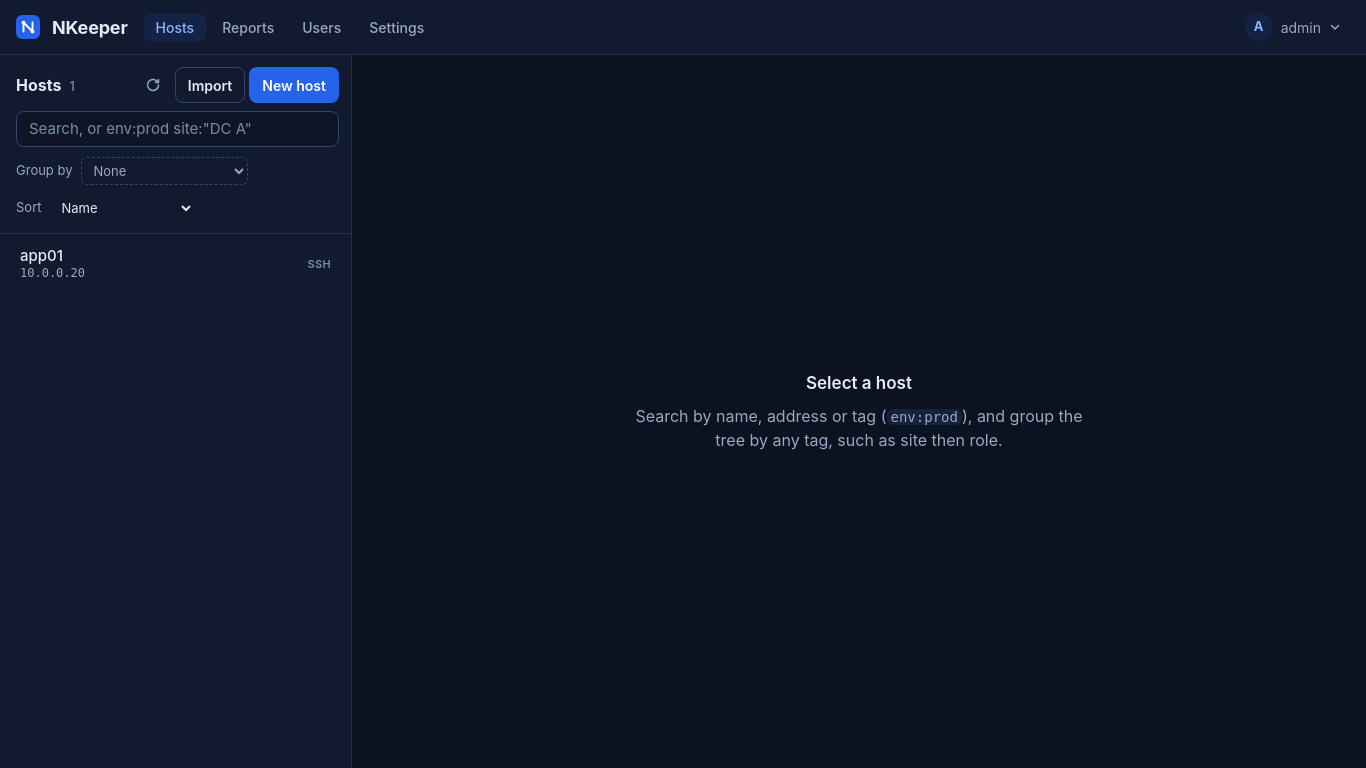
Test case: files (SFTP) › deletes only after confirming
Right-click the button "app01 10.0.0.20 SSH": x=41, y=256 [8,242,343,286]
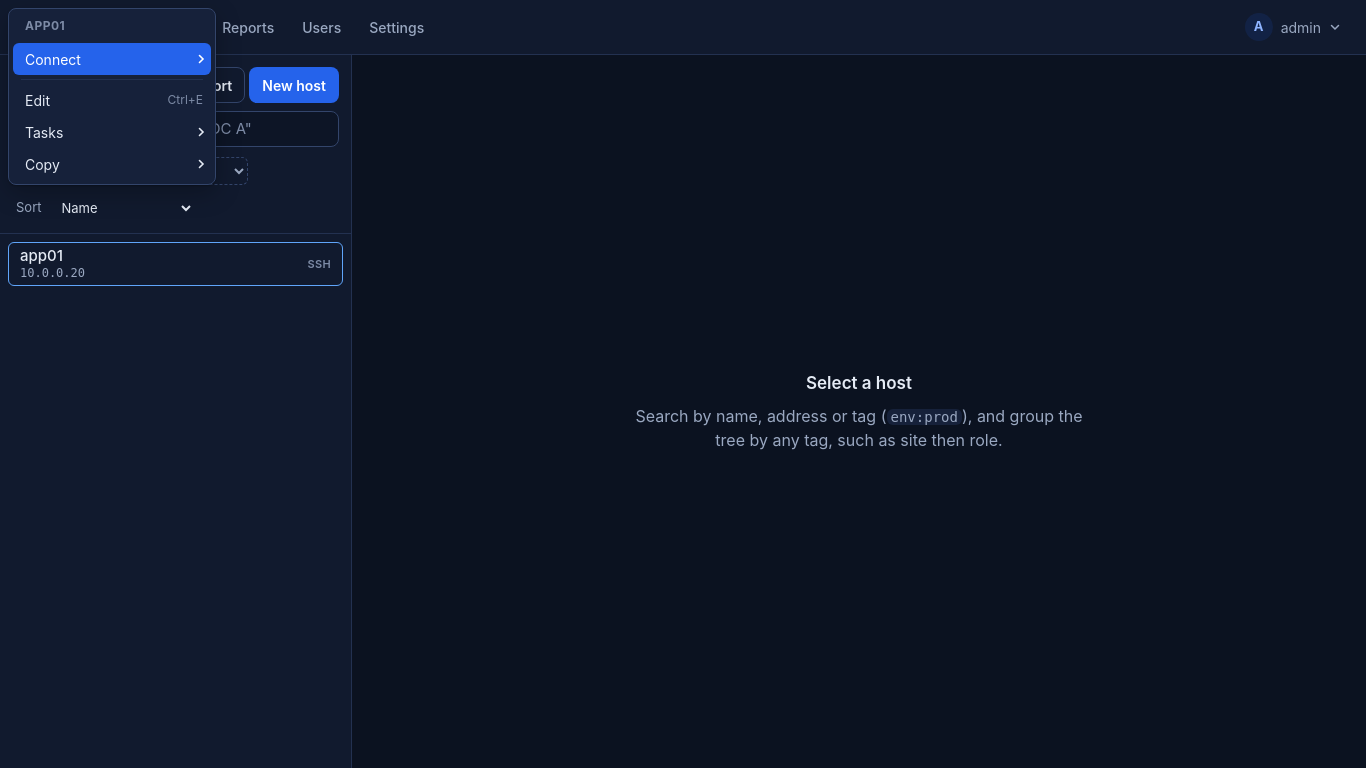
Hover over the menu item "Connect": x=112, y=59 [13,43,211,75]
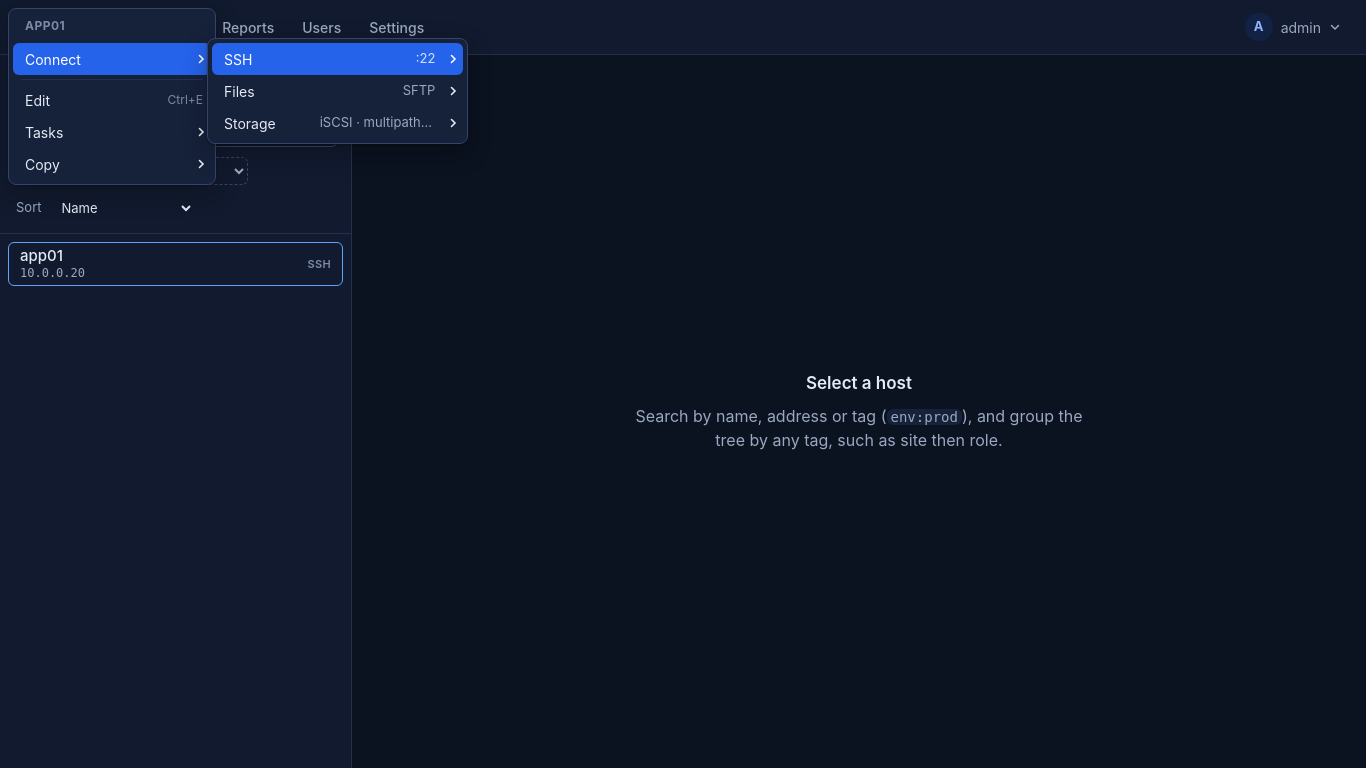
Hover over the menu item "Files SFTP": x=338, y=91 [212,75,463,107]
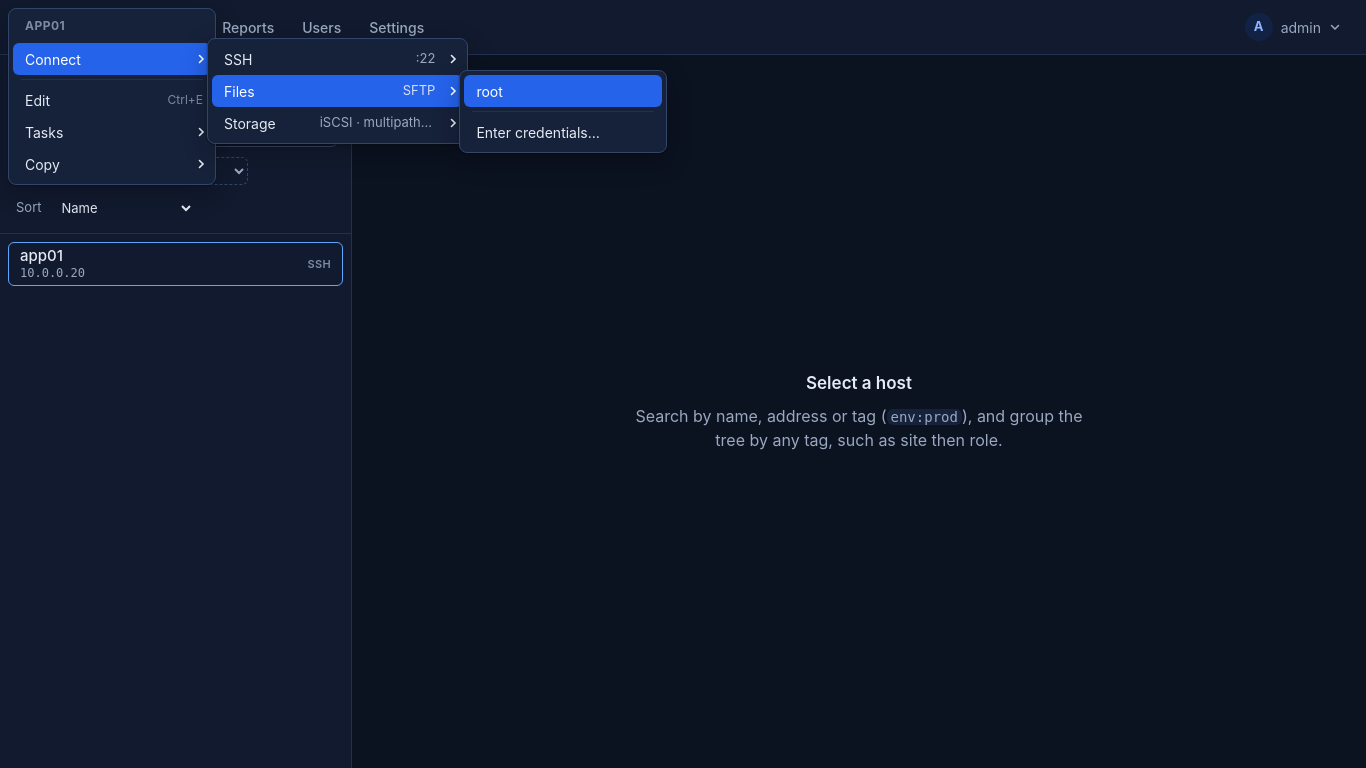
Click the menu item "root": x=563, y=91 [464,75,662,107]
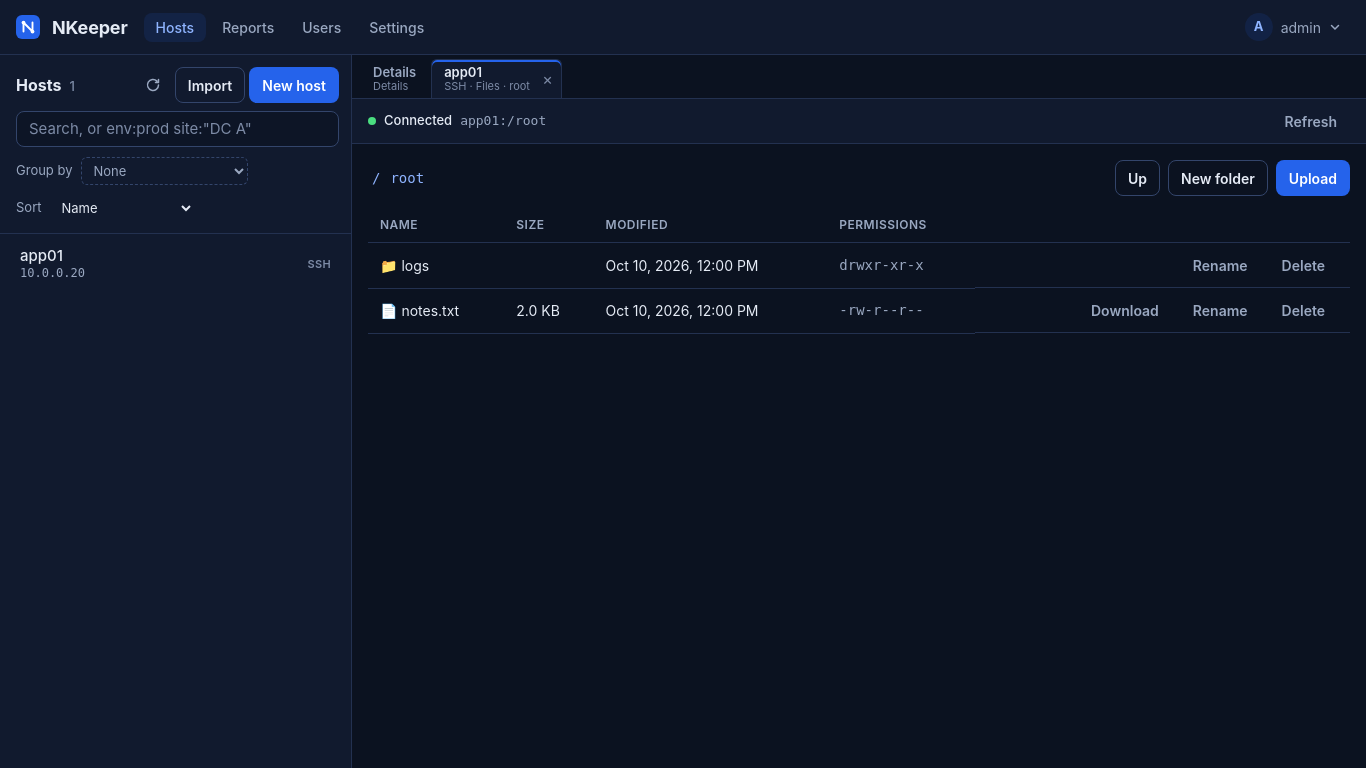
Click the button "Delete" in the row of "notes.txt": x=1303, y=310 [1269,292,1338,328]
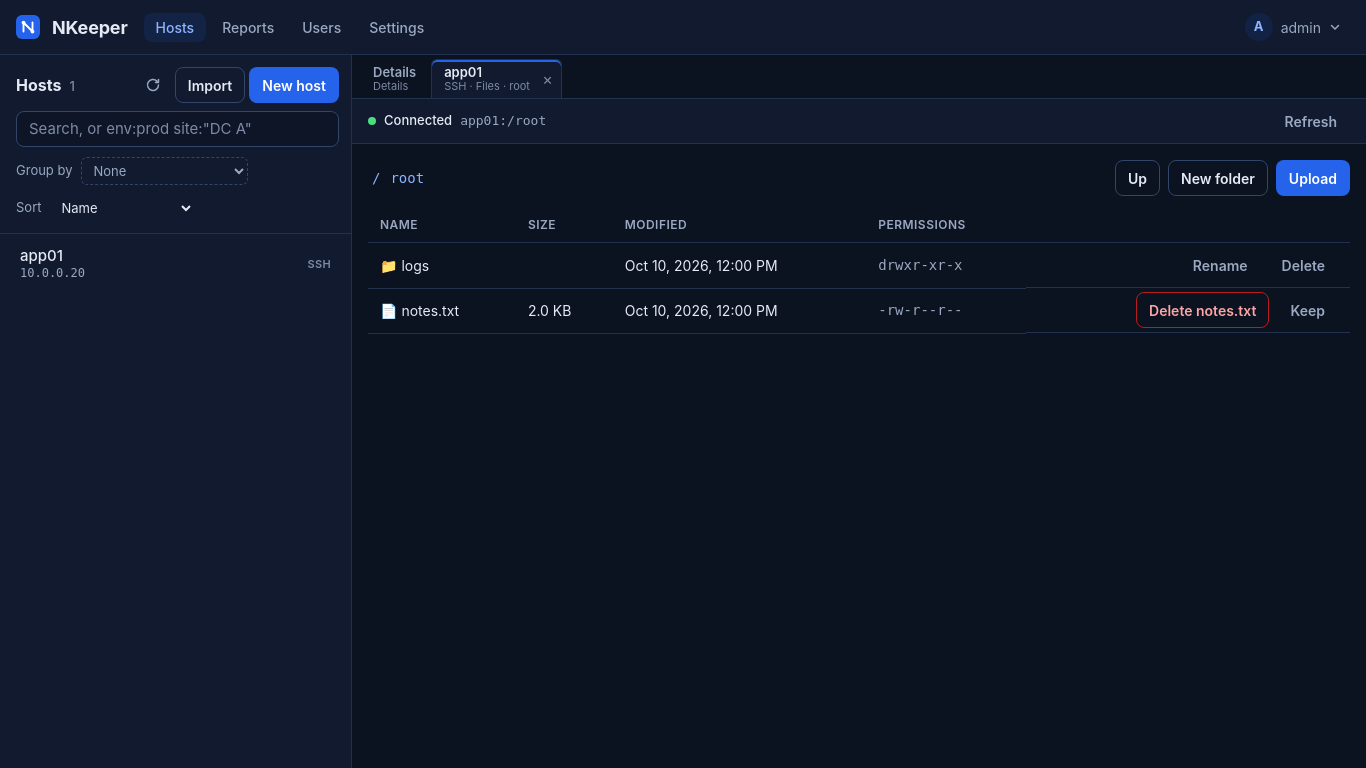
Click the button "Delete notes.txt": x=1203, y=310 [1136,292,1269,328]
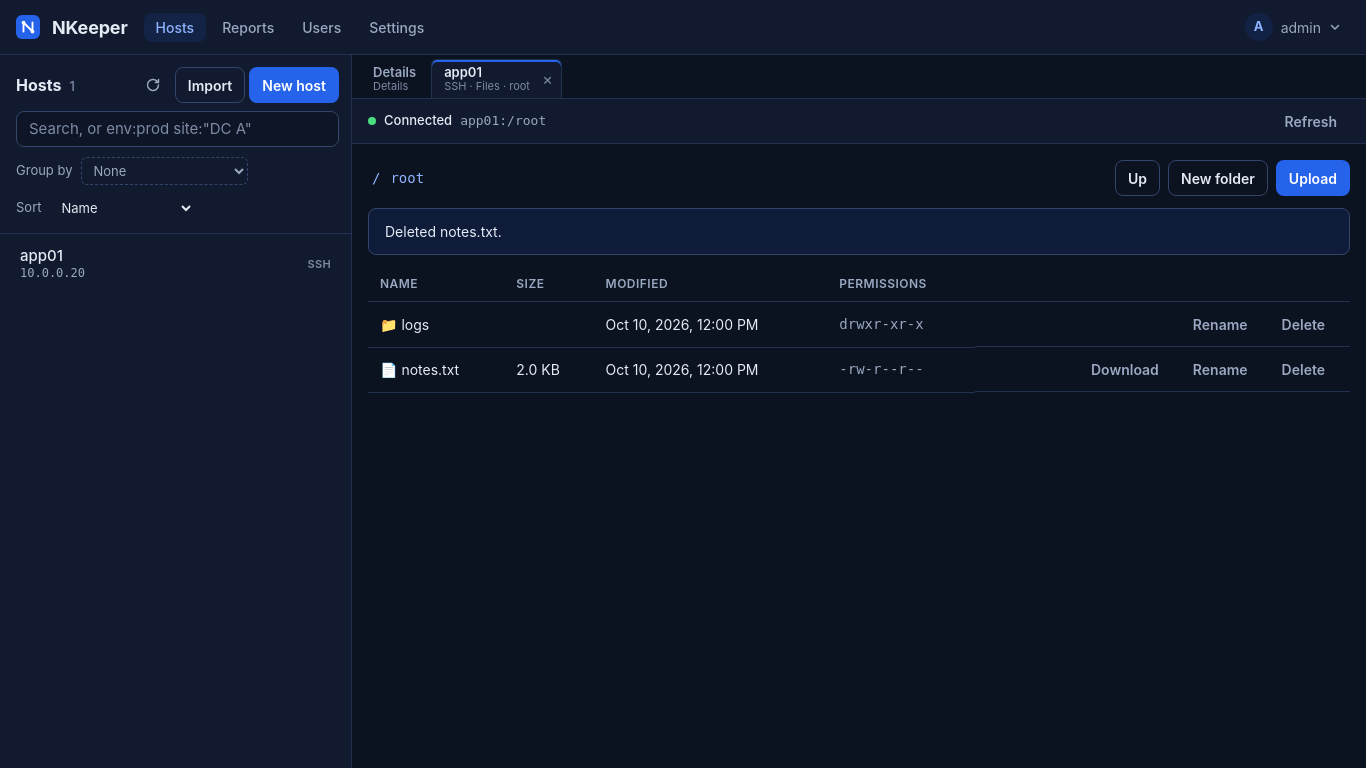
Result: the text "Deleted notes.txt." is shown at [368,208,1350,255]
